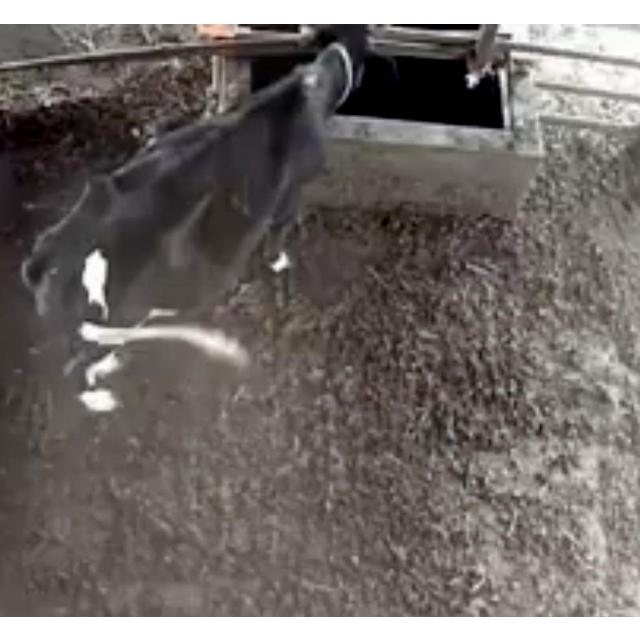drink: (238, 23, 424, 139)
